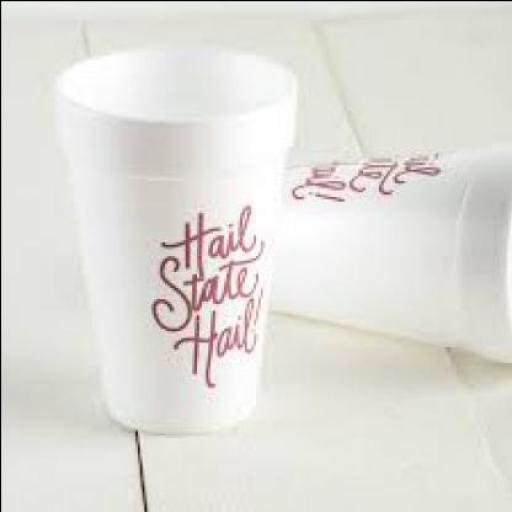paper: (55, 47, 296, 428), (262, 139, 510, 366)
